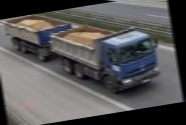truck: (4, 0, 165, 109)
